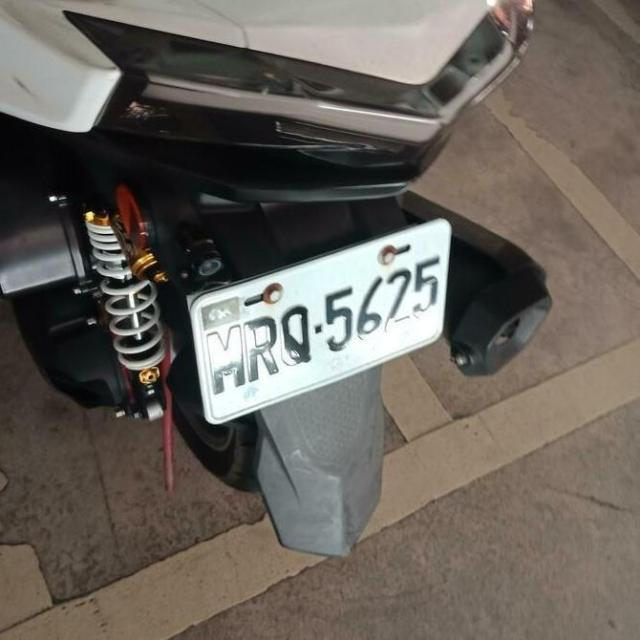W: (168, 210, 467, 438)
